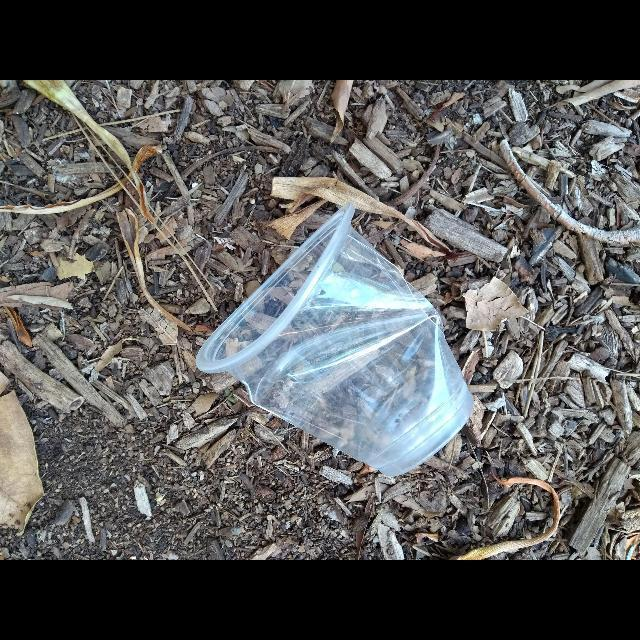Plastic: (195, 202, 473, 476)
